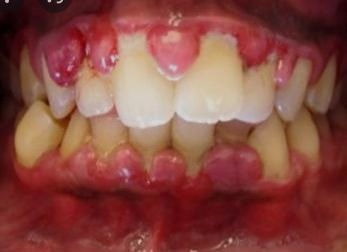Gingivitis: (65, 193, 269, 232), (46, 30, 83, 84), (213, 149, 257, 187), (92, 35, 115, 70)
